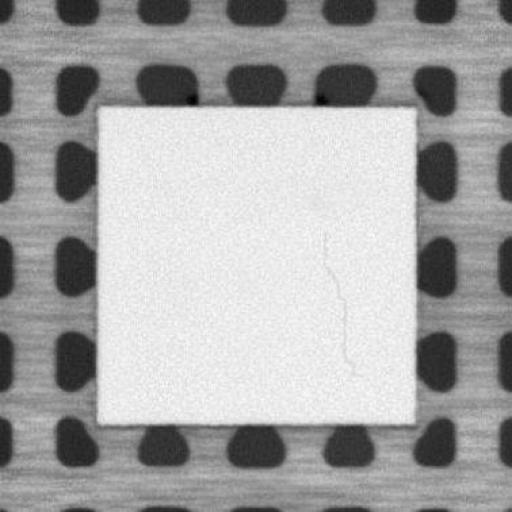DIE_CRACK: (316, 230, 359, 377)
